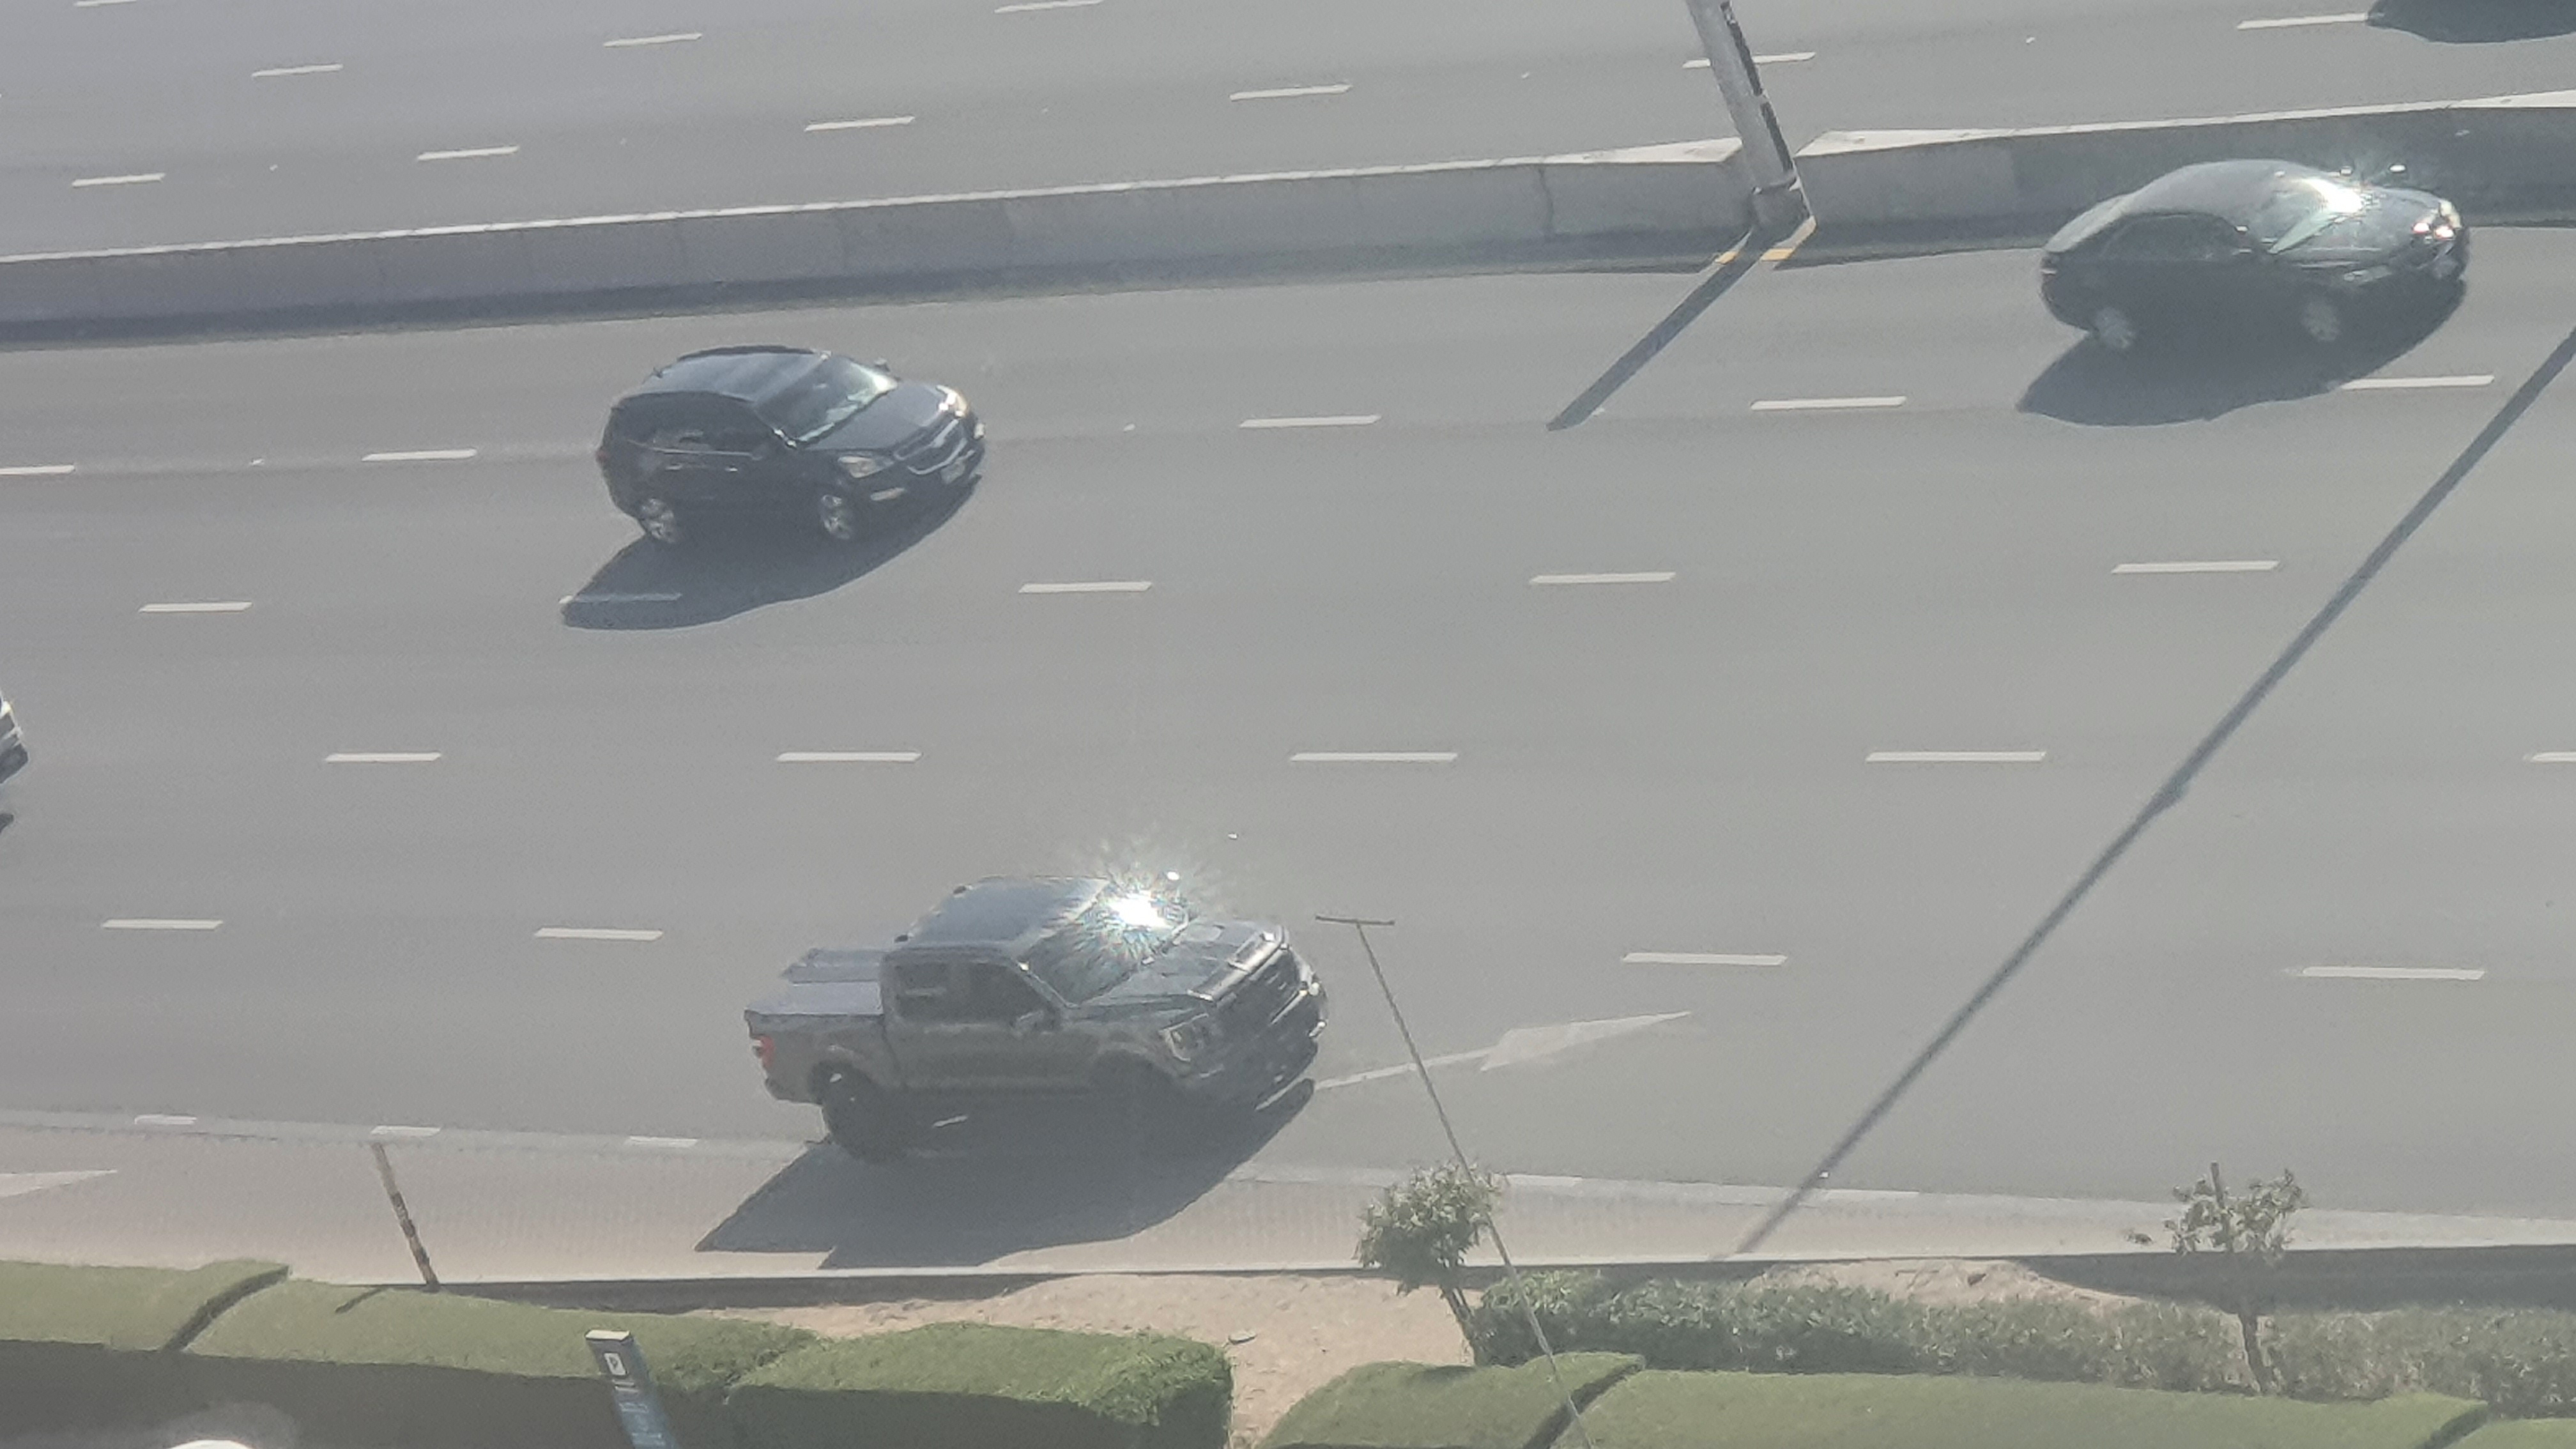NotSunroof: (2029, 161, 2482, 357)
Sunroof: (734, 883, 1336, 1161), (584, 350, 982, 556)
